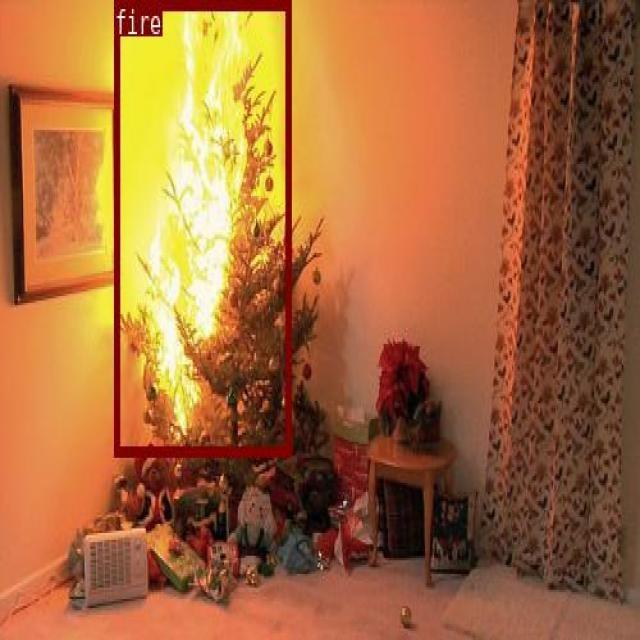fire: (114, 0, 290, 456)
